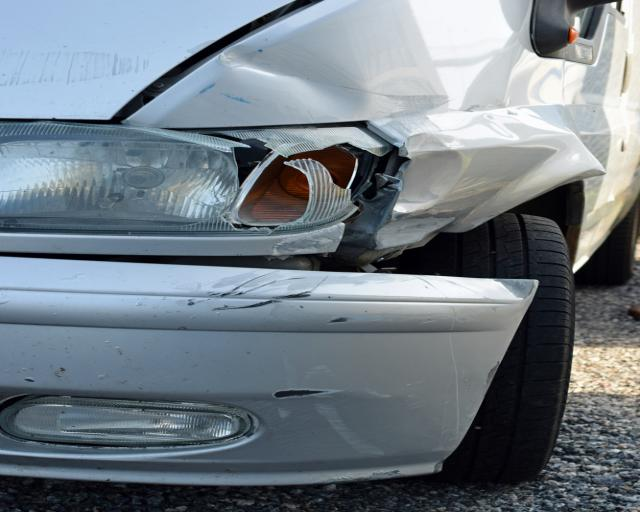dent: (390, 135, 556, 245), (220, 44, 371, 119)
lamp broken: (0, 118, 388, 235)
scratch: (192, 270, 503, 327), (275, 364, 406, 461), (0, 52, 161, 89)
